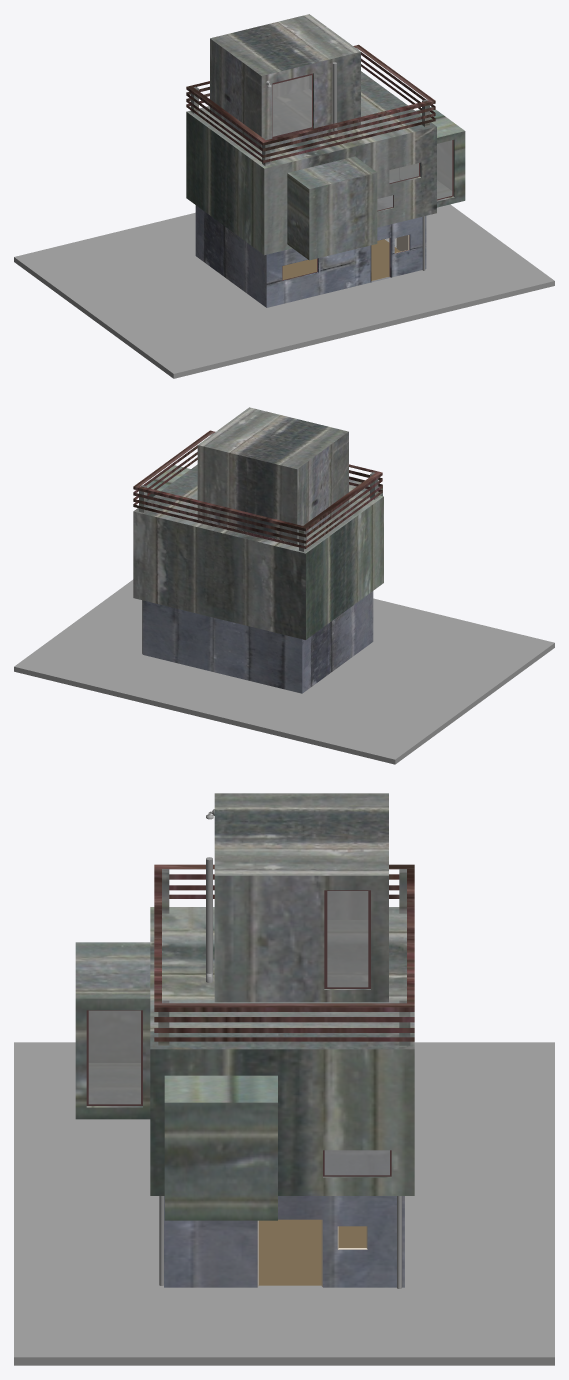
The model's file is HouseRenzoPiano.fbx.
The picture shows the model from 3 angles, top to bottom: view 1: azimuth 30°, elevation 25°; view 2: azimuth 150°, elevation 25°; view 3: azimuth 270°, elevation 25°; orthographic projection. The views are drawn at different scales.
Visible parts, largest first — view 1: polySurface19, polySurface18; view 2: polySurface19; view 3: polySurface19, polySurface18.
Part boxes in pixels (box(x1,y1,x2,y2)): polySurface19: box(14, 14, 554, 378); polySurface18: box(282, 239, 400, 280); polySurface19: box(14, 407, 554, 764); polySurface19: box(14, 793, 554, 1365); polySurface18: box(259, 1219, 366, 1285).
Size of the model in its own units: 37.15 by 20.95 by 26.97.
11 materials, 4 textured.
